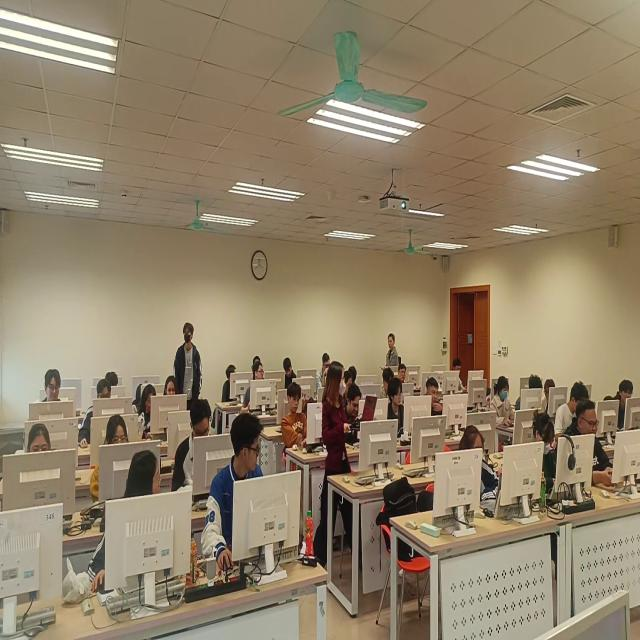raise_head: (613, 380, 640, 429), (165, 376, 178, 397), (399, 364, 408, 384), (254, 355, 261, 368)
stand: (316, 361, 354, 566), (174, 322, 203, 404), (380, 333, 404, 372)
using_computer: (564, 398, 614, 489), (172, 401, 213, 495), (90, 414, 132, 504), (460, 426, 501, 503), (78, 378, 112, 450), (556, 382, 590, 441), (531, 412, 556, 492), (282, 383, 309, 454), (132, 386, 158, 443), (388, 378, 405, 439), (344, 384, 363, 433), (28, 422, 52, 457), (426, 378, 444, 417), (43, 367, 62, 403), (317, 353, 331, 391), (283, 357, 298, 391), (454, 360, 469, 394), (381, 368, 395, 400), (343, 372, 354, 400), (107, 372, 120, 387), (349, 366, 359, 383), (604, 394, 614, 404)
